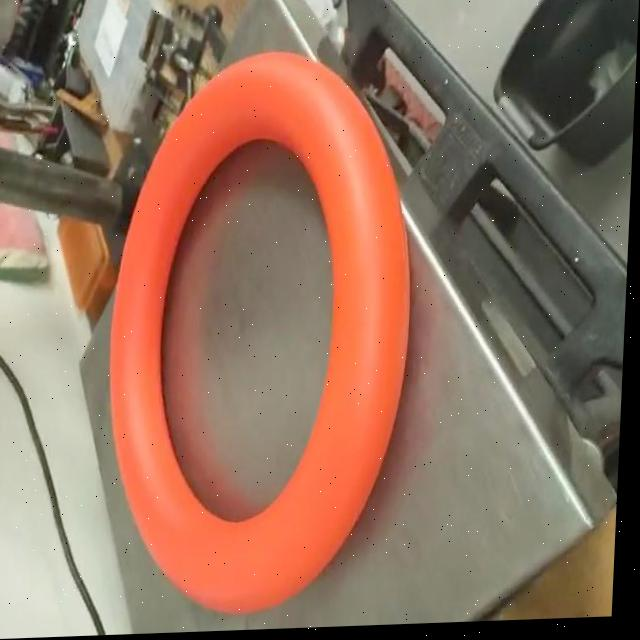note: (98, 41, 429, 625)
